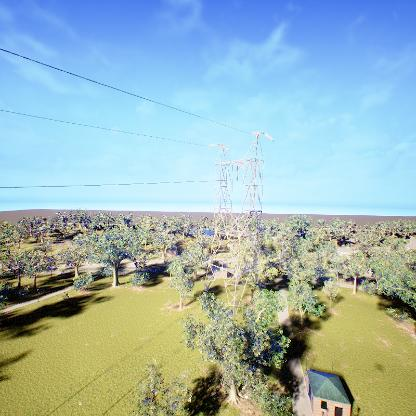tower: (203, 127, 278, 319)
